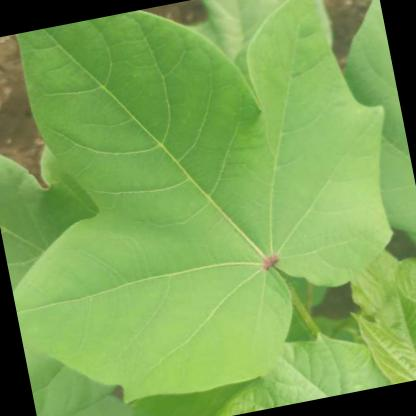cotton: (0, 0, 404, 407)
